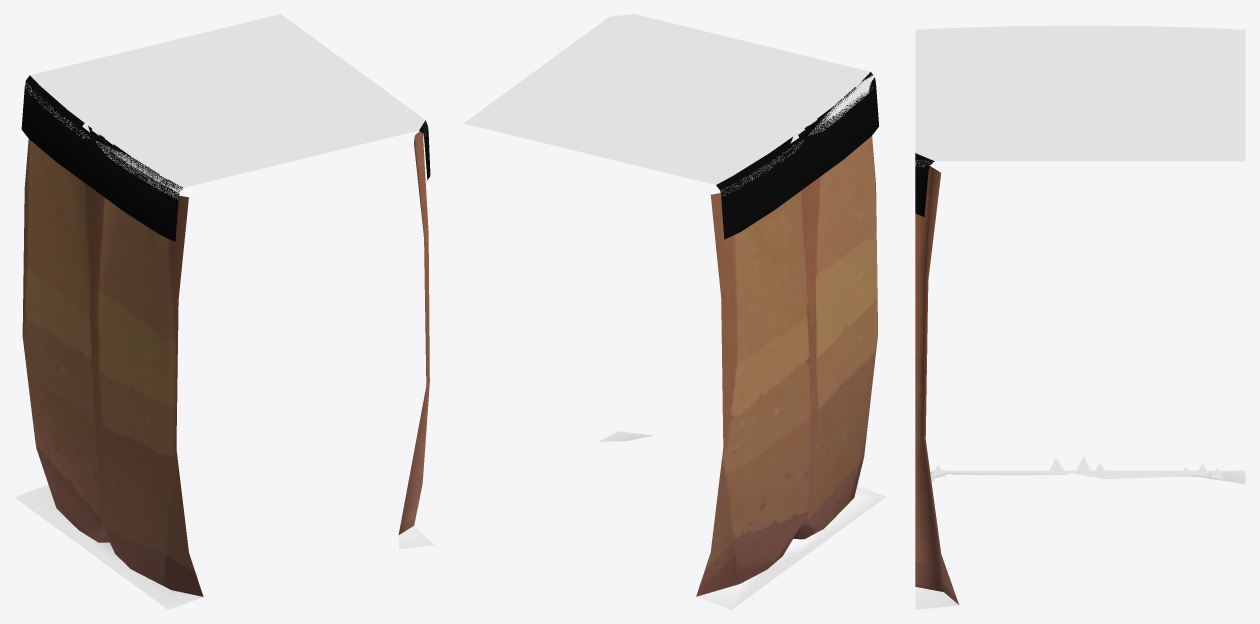
3 views of the same model, side by side, from view 1: azimuth 30°, elevation 25°; view 2: azimuth 150°, elevation 25°; view 3: azimuth 270°, elevation 25° (orthographic). The views are drawn at different scales.
Parts seen in each view (by area): view 1: CliffC__mCliff, GrassT__mGrass, GrassOP_1__mGrassCliffXlu, GrassB_1__mGrass; view 2: CliffC__mCliff, GrassT__mGrass, GrassOP_1__mGrassCliffXlu, GrassB_1__mGrass; view 3: GrassT__mGrass, CliffC__mCliff, GrassB_1__mGrass, PGrassBA__mProcGrass, GrassOP_1__mGrassCliffXlu.
Boxes of the visible parts, left/top/right/bottom form: CliffC__mCliff: left=22, top=131, right=429, bottom=596; GrassT__mGrass: left=25, top=14, right=425, bottom=198; GrassOP_1__mGrassCliffXlu: left=21, top=75, right=430, bottom=241; GrassB_1__mGrass: left=14, top=485, right=434, bottom=609; CliffC__mCliff: left=696, top=136, right=877, bottom=596; GrassT__mGrass: left=463, top=14, right=874, bottom=195; GrassOP_1__mGrassCliffXlu: left=716, top=72, right=878, bottom=239; GrassB_1__mGrass: left=598, top=431, right=885, bottom=609; GrassT__mGrass: left=915, top=25, right=1245, bottom=166; CliffC__mCliff: left=915, top=166, right=958, bottom=604; GrassB_1__mGrass: left=915, top=470, right=1245, bottom=609; PGrassBA__mProcGrass: left=930, top=456, right=1223, bottom=481; GrassOP_1__mGrassCliffXlu: left=915, top=153, right=934, bottom=217.
Bounding box in the file's own units: 10 × 15.39 × 10.
Materials: 4 (1 with a texture image).
